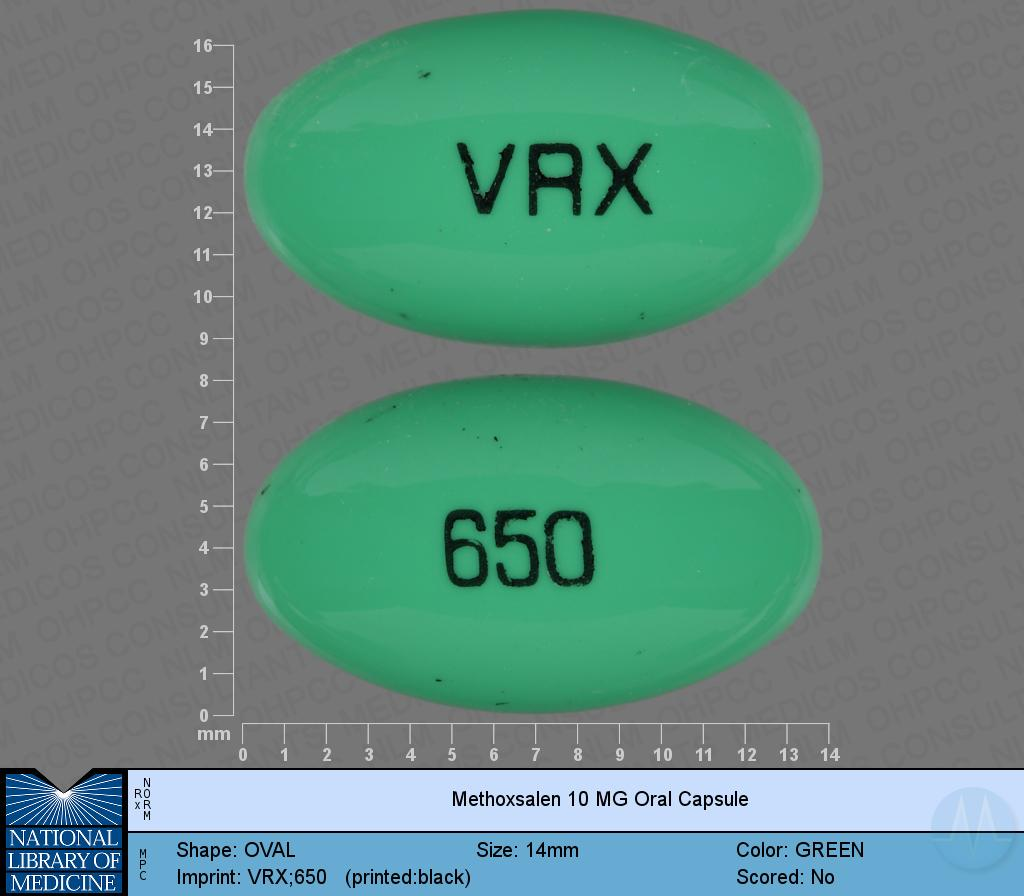Pill: (232, 3, 835, 358), (233, 373, 837, 722)
